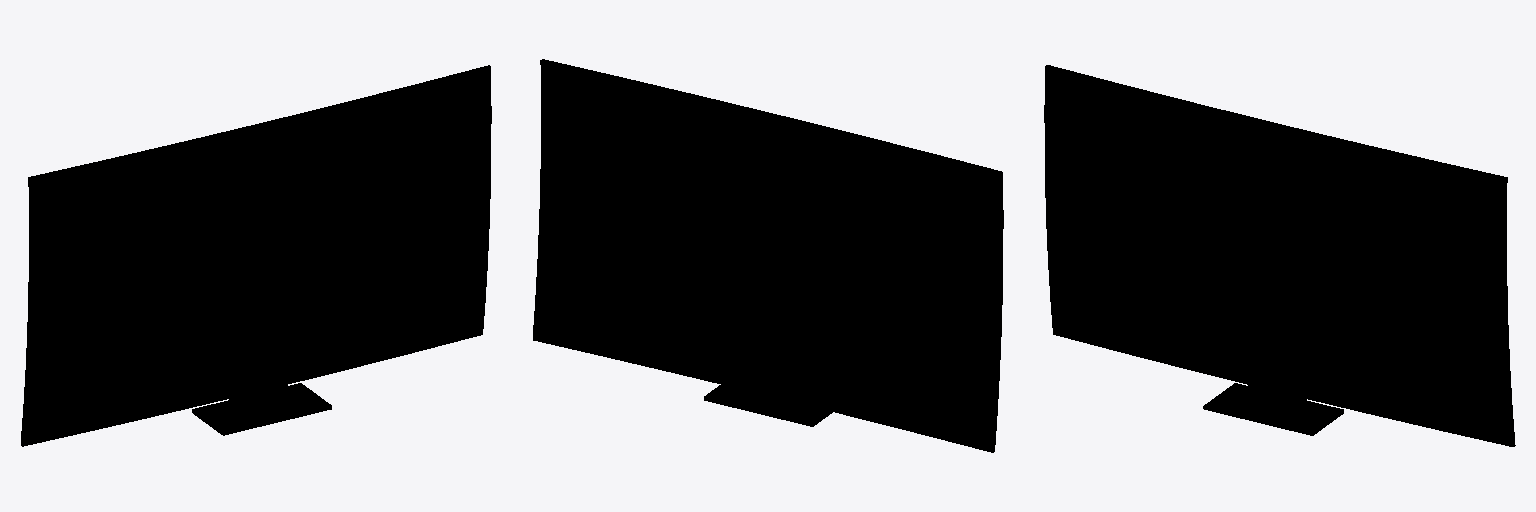
robot.urdf — tv:
<?xml version="1.0"?>
<robot name="tv">
<link name="tv_base_link">
  <inertial>
    <mass value="0.0"/>
    <origin xyz="0 0 0" rpy="0 0 3.14"/>
    <inertia ixx="0.01" ixy="0" ixz="0" iyy="0.01" iyz="0" izz="0.01"/>
  </inertial>

  <visual>
    <origin xyz="0 0 0" rpy="0 0 3.14"/>
    <geometry>
      <mesh filename="package://meshes/tv.dae" scale="0.5 0.5 0.5"/>
    </geometry>
    <material name="material_name">
      <color rgba="0.0 0.0 0.0 1.0"/>
    </material>
  </visual>

  <collision>
    <origin xyz="0 0 0" rpy="0 0 3.14"/>
    <geometry>
      <mesh filename="package://meshes/tv.dae" scale="0.5 0.5 0.5"/> 
      
      </geometry>
  </collision>
</link>
</robot>

--- Render facts (derived) ---
Views: 3 orthographic renders of the robot side by side, from view 1: azimuth 30°, elevation 25°; view 2: azimuth 150°, elevation 25°; view 3: azimuth 330°, elevation 25°.
Robot: tv — 1 links, 0 joints (none); root link tv_base_link; default pose: all joints at 0.
Visible links, largest first — view 1: tv_base_link; view 2: tv_base_link; view 3: tv_base_link.
Link boxes in pixels (x1,y1,x2,y2): tv_base_link: (21,65,491,446); tv_base_link: (533,59,1003,452); tv_base_link: (1044,65,1515,446).
Size in the robot's own frame: 0.8427 by 0.1003 by 0.5029 metres.
Meshes: 1 distinct files referenced, 1 mesh visuals loaded (1 Collada DAE).
